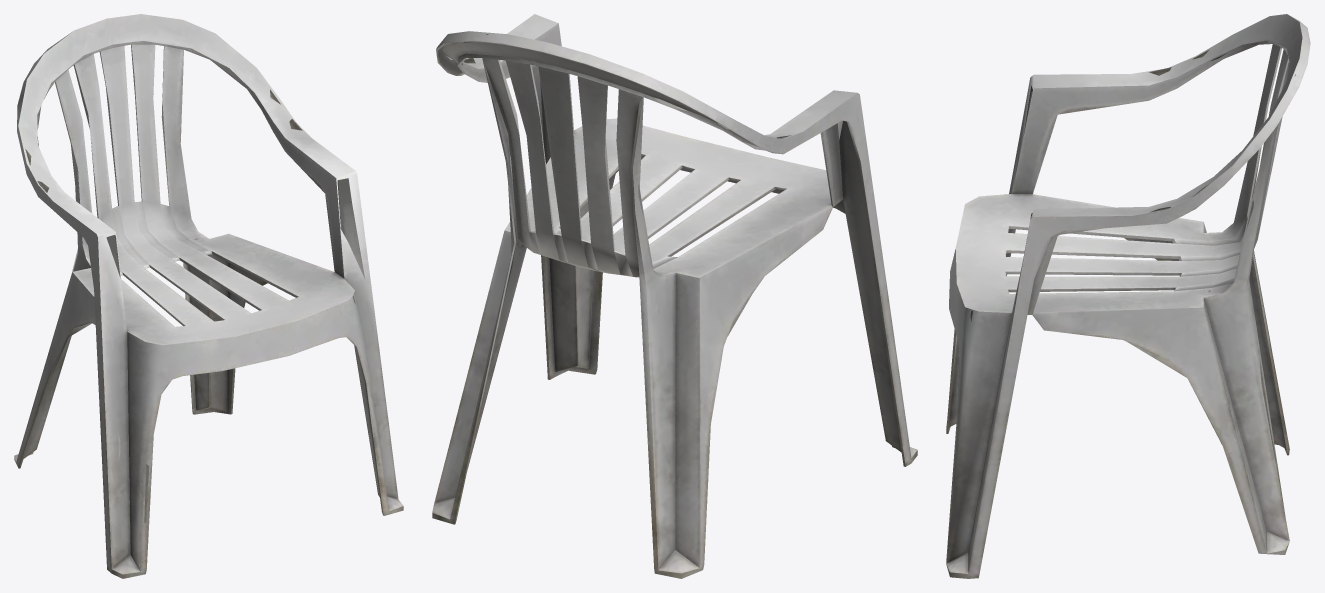
File: plastic-monobloc-chair-01.glb
3 views of the same model, side by side, from view 1: azimuth 30°, elevation 25°; view 2: azimuth 150°, elevation 25°; view 3: azimuth 270°, elevation 25° (orthographic). The views are drawn at different scales.
Visible parts, largest first — view 1: plastic_monobloc_chair_01; view 2: plastic_monobloc_chair_01; view 3: plastic_monobloc_chair_01.
Boxes of the visible parts, box(x1,y1,x2,y2) form: plastic_monobloc_chair_01: box(14, 14, 403, 578); plastic_monobloc_chair_01: box(432, 14, 917, 578); plastic_monobloc_chair_01: box(946, 14, 1310, 578).
Size of the model in its own units: 0.6419 by 0.8798 by 0.6276.
Materials: 1 (1 with a texture image).
